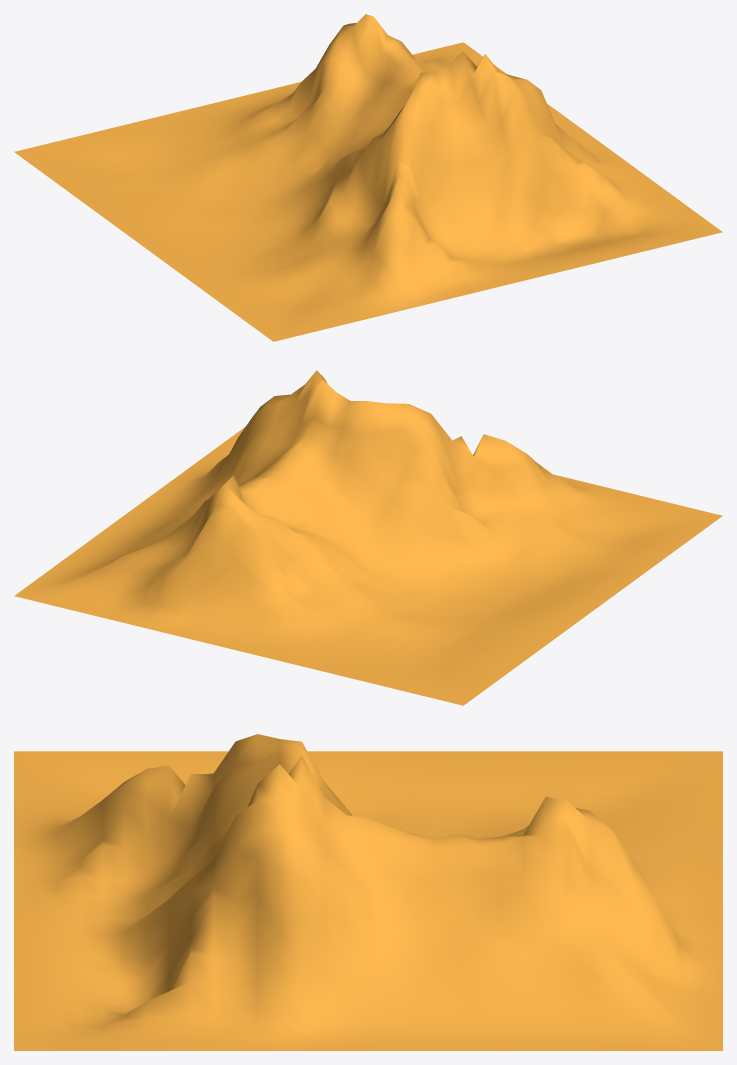
File: mountain3.fbx
3 renders of one model, top to bottom at view 1: azimuth 30°, elevation 25°; view 2: azimuth 150°, elevation 25°; view 3: azimuth 270°, elevation 25°, orthographic. The views are drawn at different scales.
Visible parts, largest first — view 1: mountain3; view 2: mountain3; view 3: mountain3.
Boxes of the visible parts, x1,y1,x2,y2 form: mountain3: (14,14,722,341); mountain3: (14,370,722,705); mountain3: (14,734,722,1050).
Size of the model in its own units: 2 by 0.6676 by 2.
